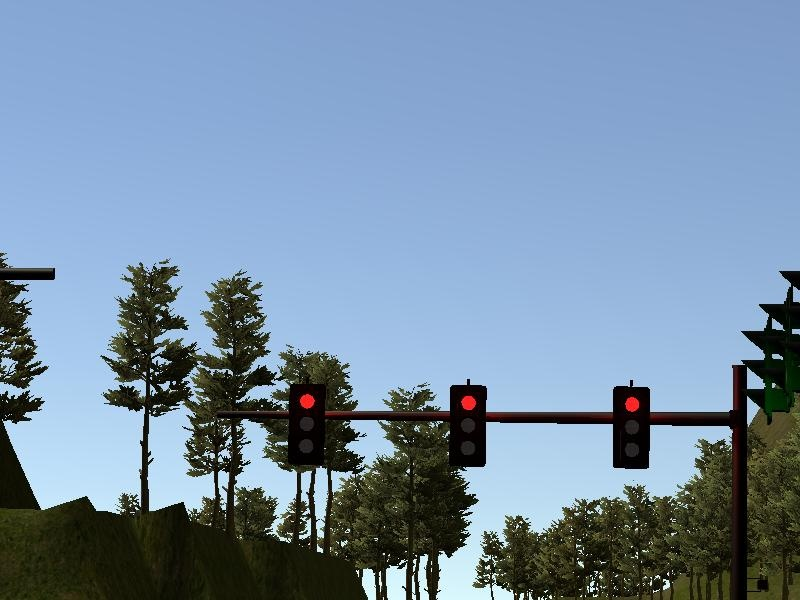Red: (448, 385, 488, 469), (612, 384, 650, 470), (289, 383, 323, 466)
